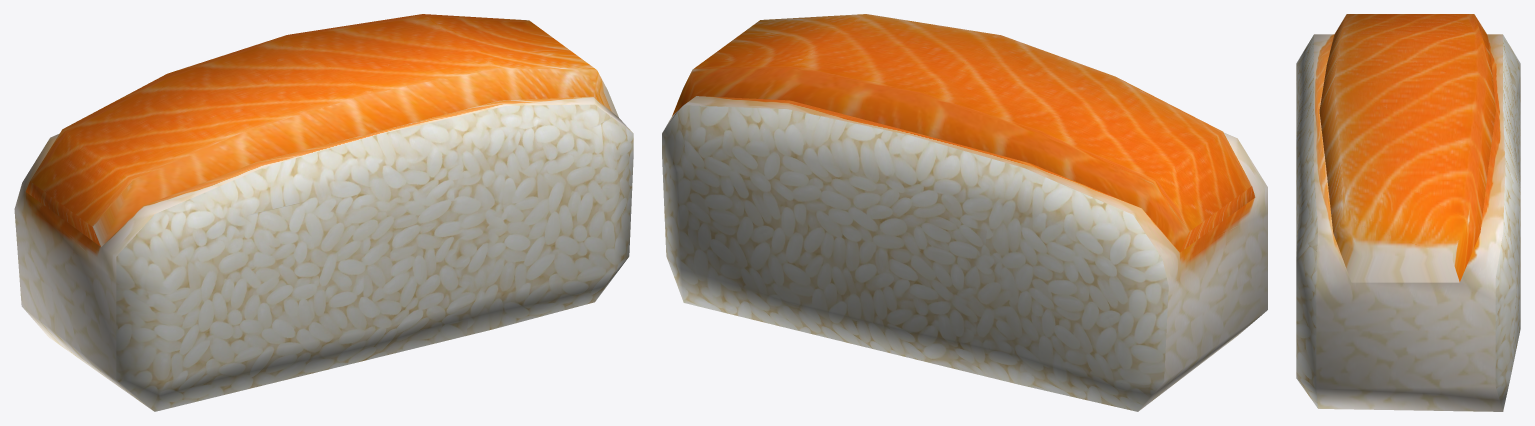
Rendered from sushi4.glb.
3 renders of one model, left to right at view 1: azimuth 30°, elevation 25°; view 2: azimuth 150°, elevation 25°; view 3: azimuth 270°, elevation 25°, orthographic. The views are drawn at different scales.
Parts seen in each view (by area): view 1: sushi_4; view 2: sushi_4; view 3: sushi_4.
Boxes of the visible parts, <box> form: sushi_4: <box>14,14,633,411</box>; sushi_4: <box>662,14,1267,411</box>; sushi_4: <box>1296,14,1520,411</box>.
Size of the model in its own units: 2.28 by 1.06 by 0.9338.
2 materials, 2 textured.
